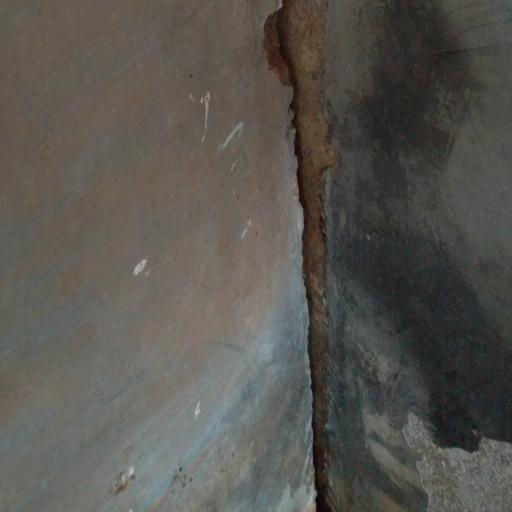major_crack: (254, 0, 377, 512)
